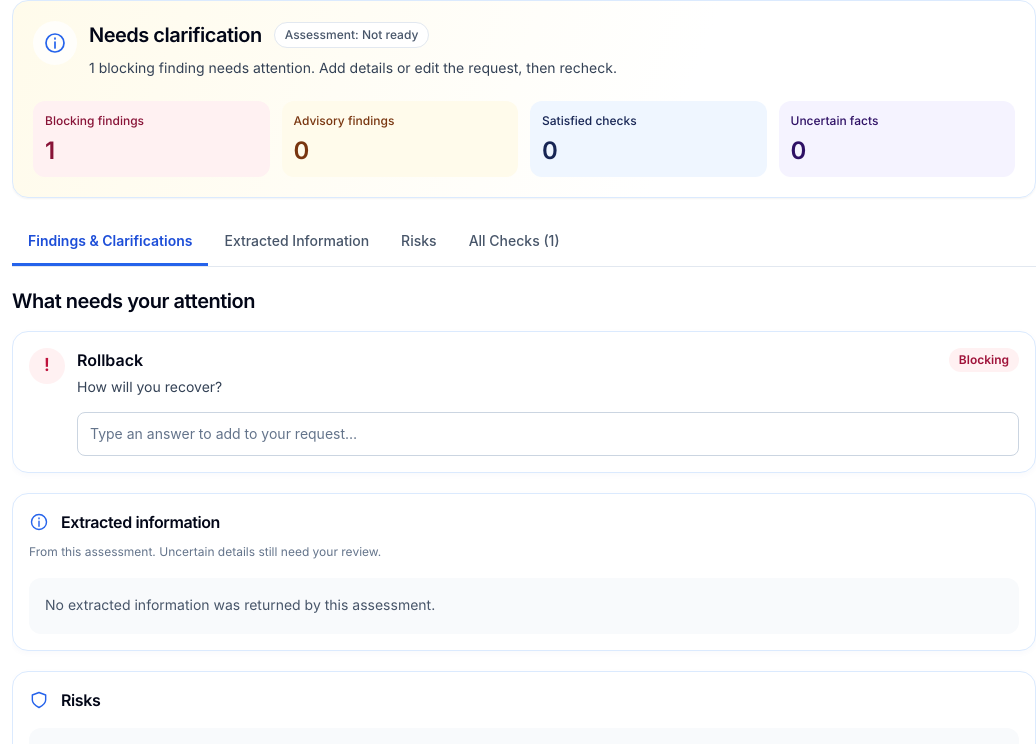
ReadinessCheckPanel › keeps the answer-quality guard and associates feedback with the correct field
The width and height of the screenshot is (1036, 744).
Type "cake" into the field labelled "Rollback" at (548, 434), box [77, 412, 1019, 456]
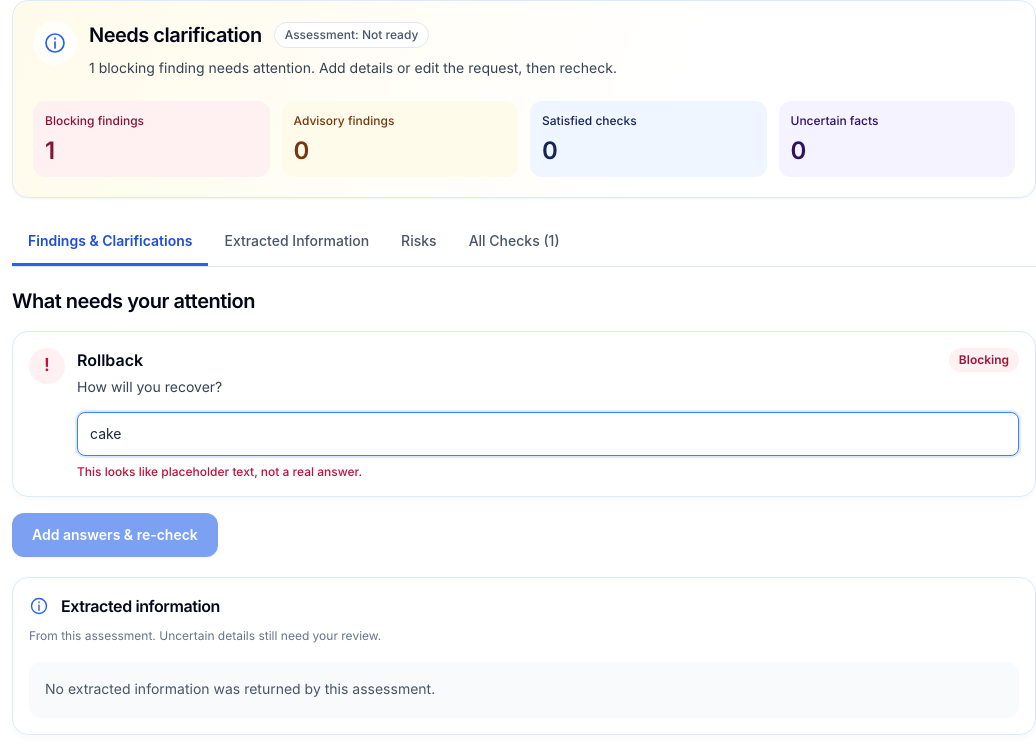
Expected: the button "Add answers & re-check" is disabled, [12, 513, 218, 557]
Replace the text in the field labelled "Rollback" with "Use the rollback pipeline" at (548, 434), box [77, 412, 1019, 456]
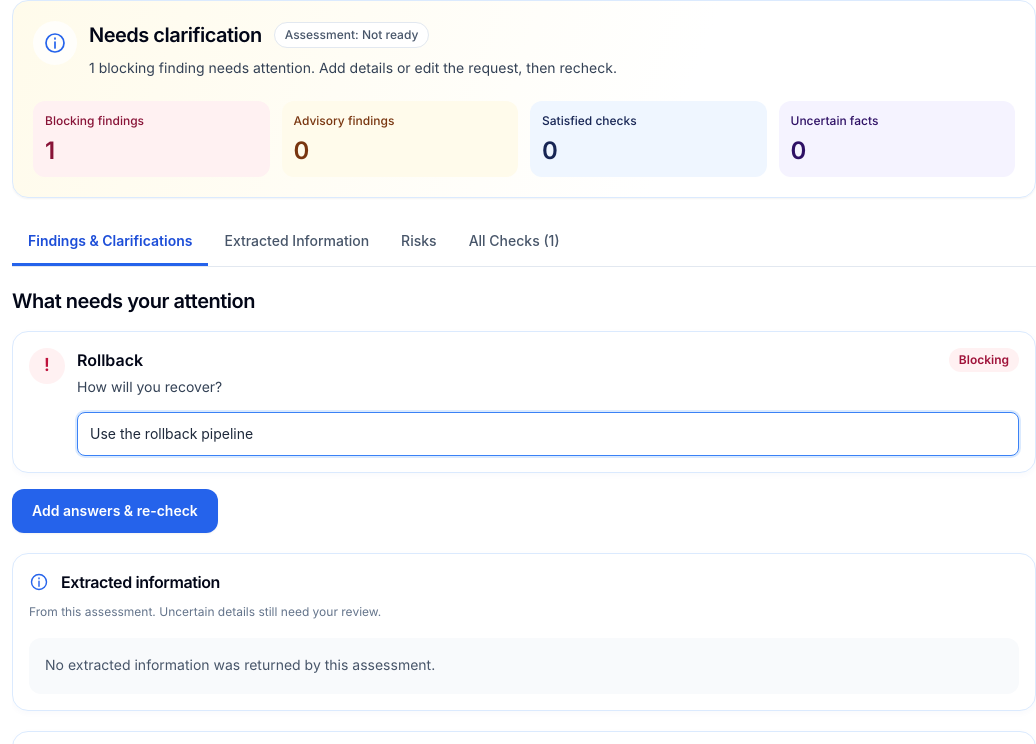
Expected: the button "Add answers & re-check" is enabled, [12, 489, 218, 533]
